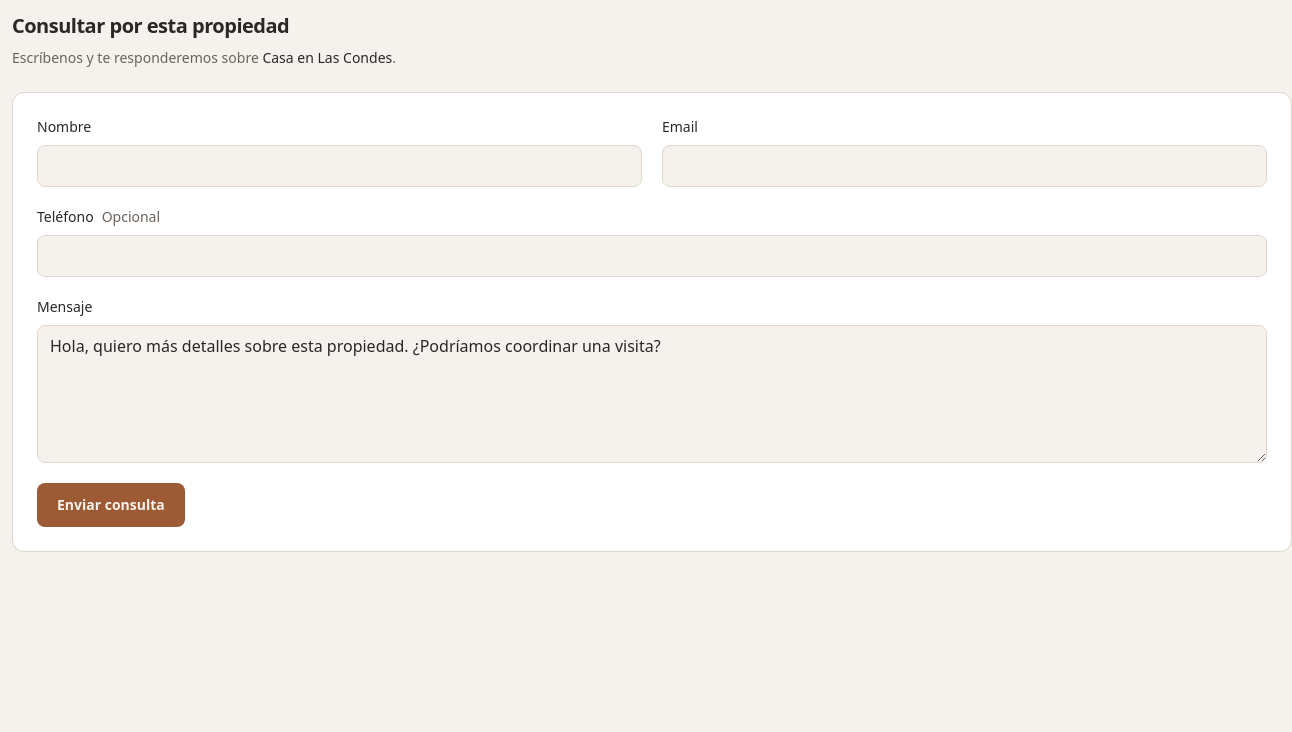
Test: PropertyContactForm › muestra el motivo que devuelve el servidor cuando falla
Type "Ana Pérez" into the field labelled "Nombre". click: (340, 166)
box: [37,145,642,187]
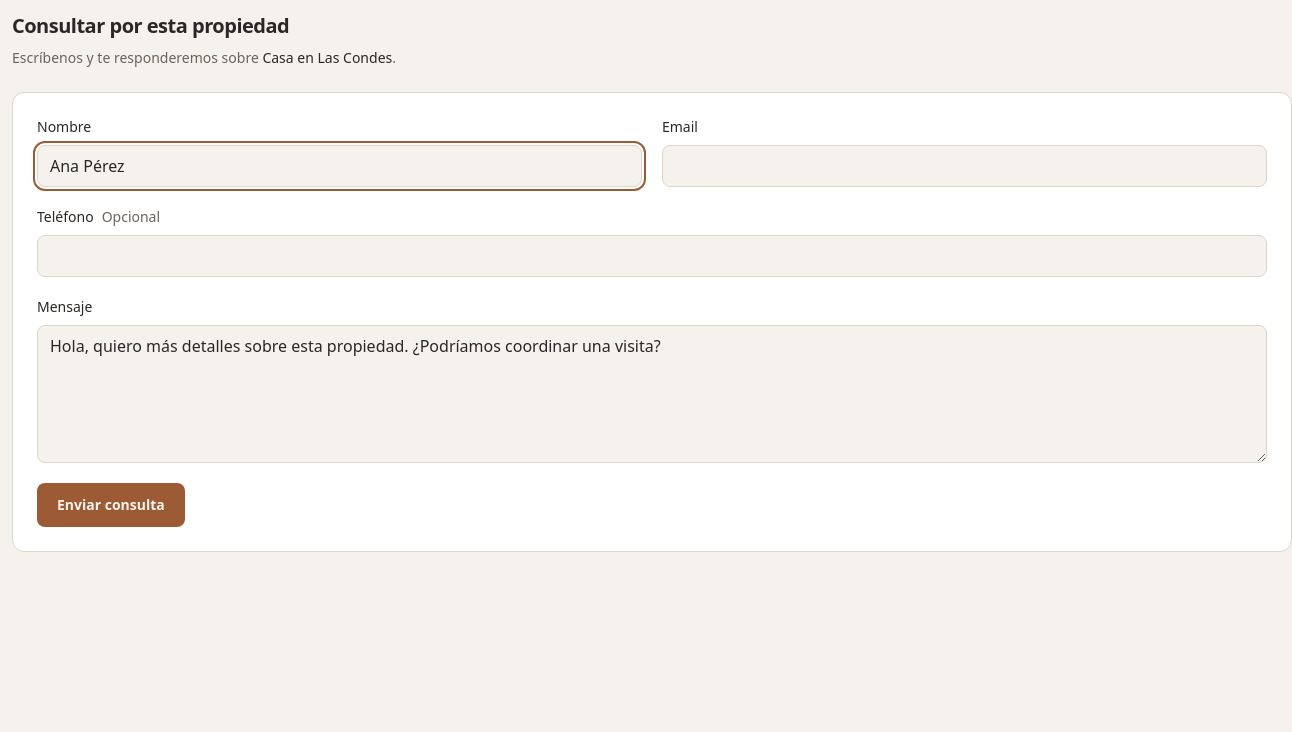
Type "ana@example.com" into the field labelled "Email". click: (964, 166)
box: [662,145,1267,187]
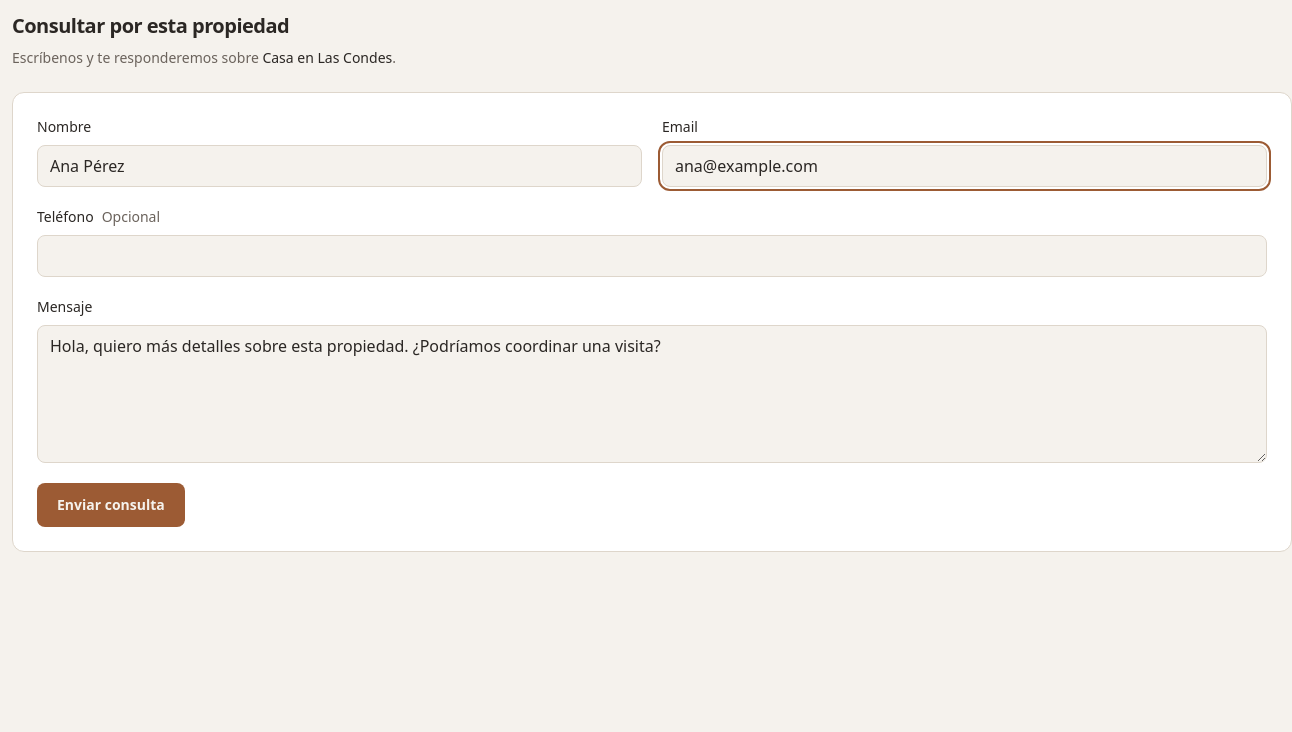
Click the button "Enviar consulta". click: (111, 505)
box: [37,483,185,527]
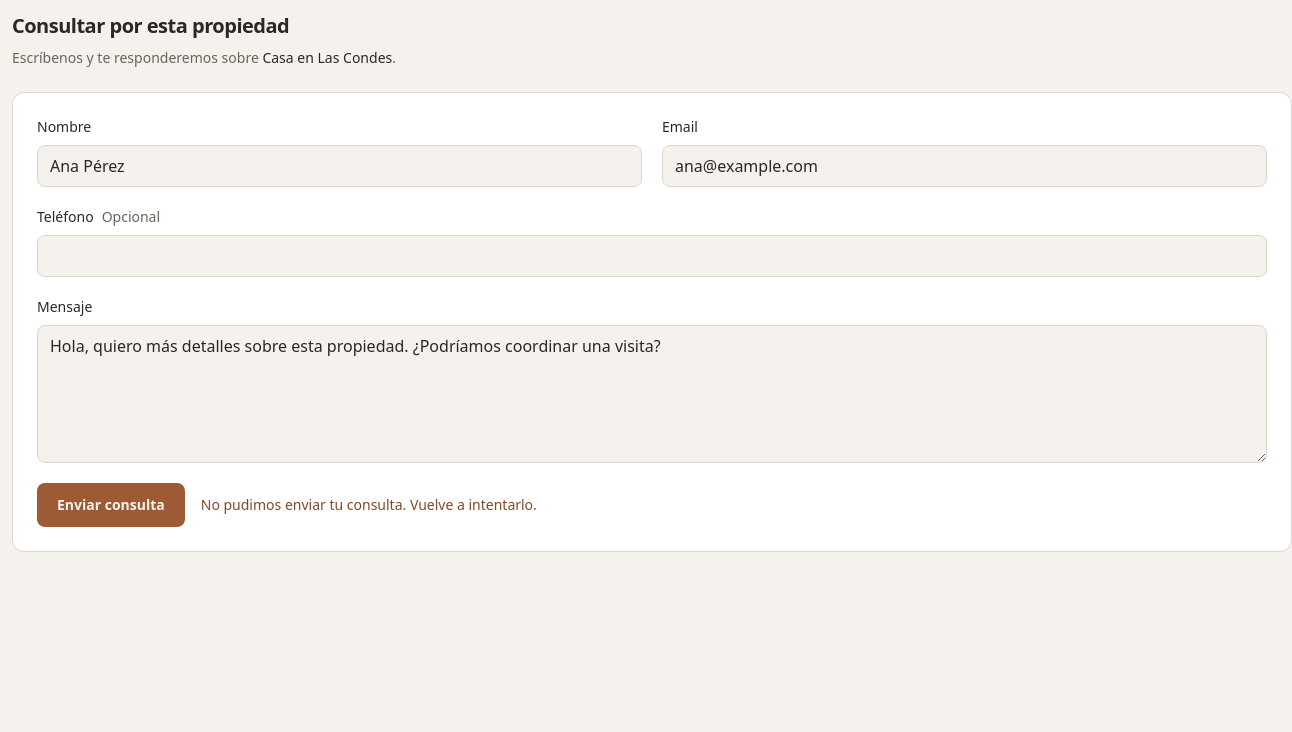
Now the text "No pudimos enviar tu consulta. Vuelve a intentarlo." is shown, box [201,495,537,515]
